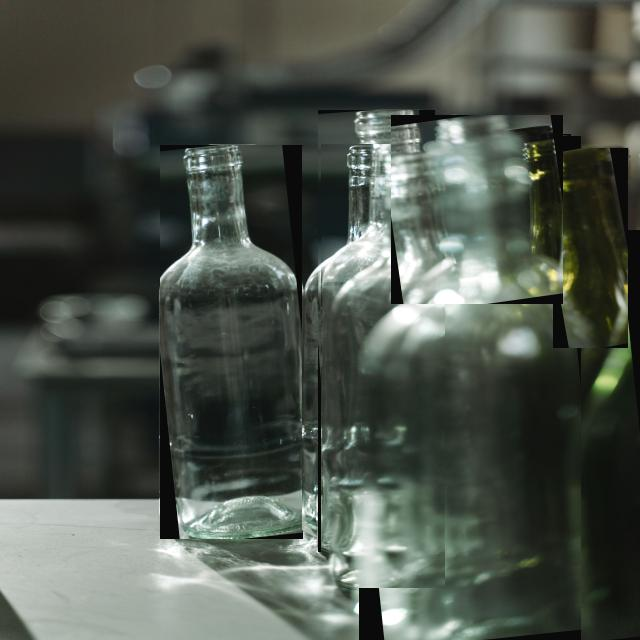Bottle: (361, 137, 580, 639), (159, 146, 302, 538), (321, 145, 435, 588), (317, 110, 429, 552), (556, 231, 639, 639), (552, 148, 626, 348), (433, 116, 523, 220), (301, 256, 334, 530), (585, 257, 639, 393), (522, 135, 569, 271)
